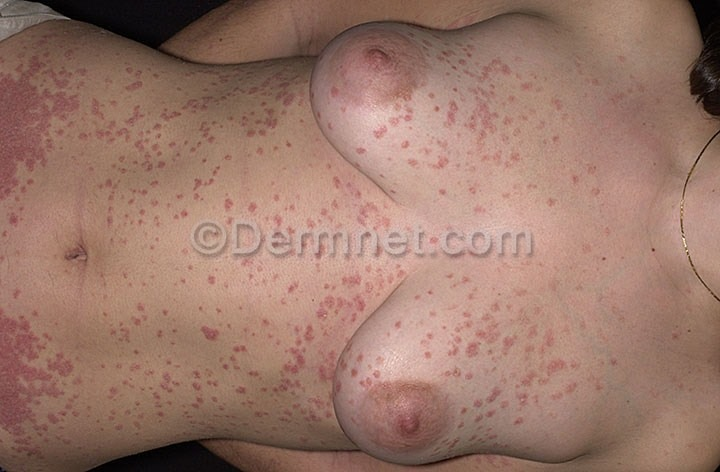Psoriasis: (99, 75, 305, 199), (431, 289, 582, 409), (438, 54, 573, 186), (256, 285, 352, 425), (119, 316, 241, 421), (1, 299, 78, 451), (1, 62, 69, 206), (358, 85, 433, 189), (321, 172, 409, 248)
